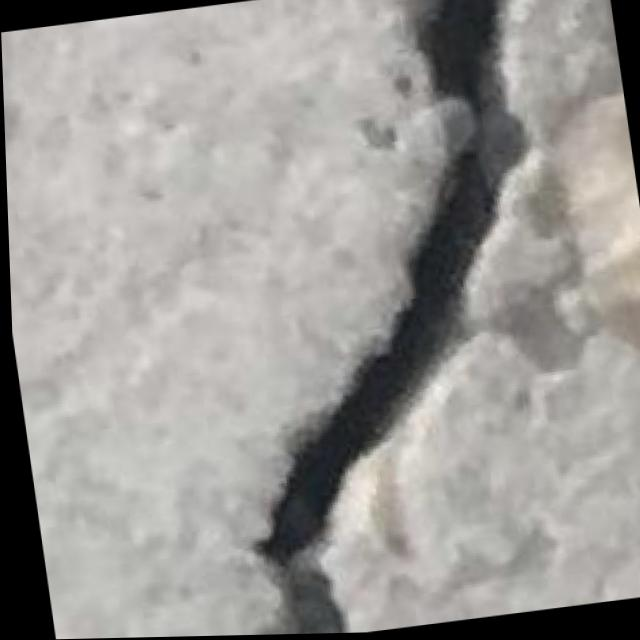Crack: (159, 0, 612, 637)
